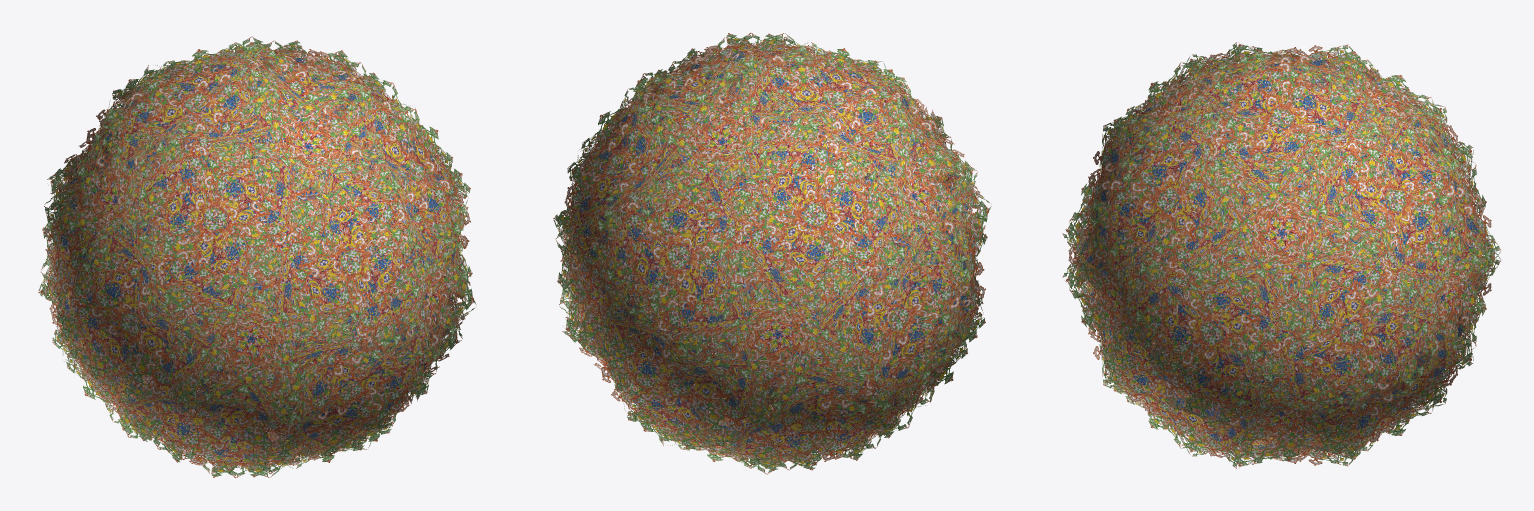
The model's file is 2GreatPentagonalHexecontahedron.gltf.
The picture shows the model from 3 angles, left to right: view 1: azimuth 30°, elevation 25°; view 2: azimuth 150°, elevation 25°; view 3: azimuth 270°, elevation 25°; orthographic projection.
Visible parts, largest first — view 1: GreatPentagonalHexecontahedron9; view 2: GreatPentagonalHexecontahedron9; view 3: GreatPentagonalHexecontahedron9.
Boxes of the visible parts, x1=… form: GreatPentagonalHexecontahedron9: x1=38, y1=36, x2=476, y2=477; GreatPentagonalHexecontahedron9: x1=553, y1=33, x2=991, y2=474; GreatPentagonalHexecontahedron9: x1=1062, y1=42, x2=1500, y2=468.
Size of the model in its own units: 1.42 by 1.42 by 1.42.
1 material, 1 textured.
